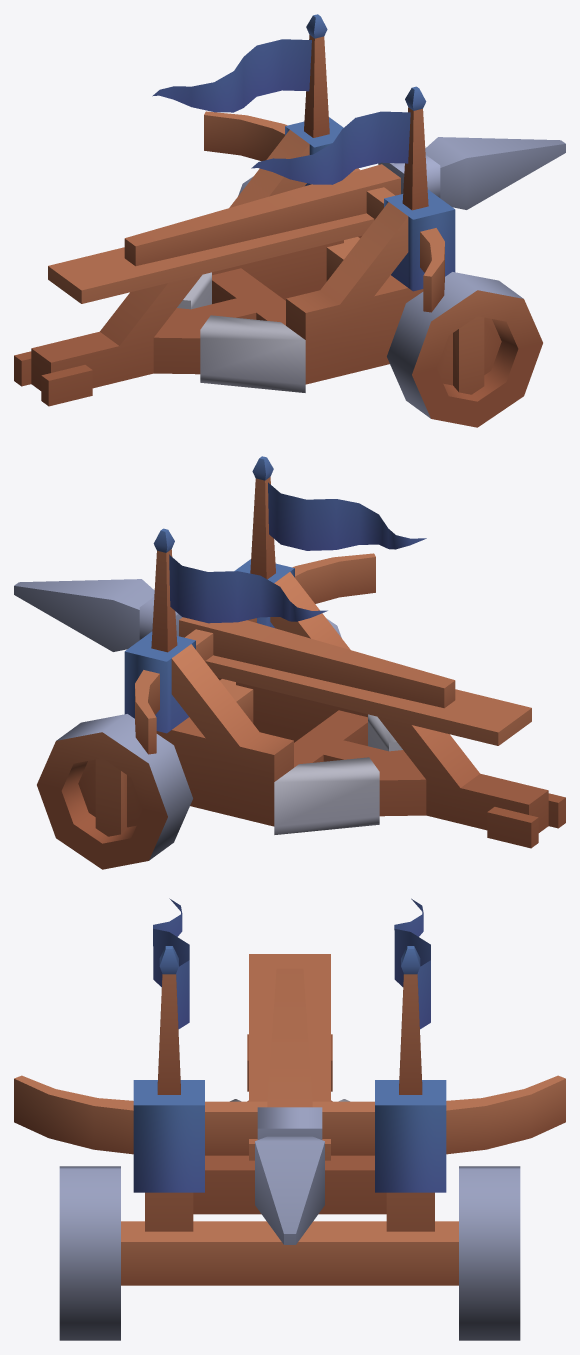
File: siege-ballista.glb
3 views of the same model, one above another, from view 1: azimuth 30°, elevation 25°; view 2: azimuth 150°, elevation 25°; view 3: azimuth 270°, elevation 25° (orthographic). The views are drawn at different scales.
Parts seen in each view (by area): view 1: siege-ballista, wheel, arrow; view 2: siege-ballista, wheel, arrow; view 3: siege-ballista, wheel (×2), arrow.
Boxes of the visible parts, x1,y1,x2,y2 form: siege-ballista: [14, 14, 455, 406]; wheel: [387, 272, 542, 427]; arrow: [124, 137, 565, 266]; siege-ballista: [124, 456, 565, 848]; wheel: [37, 714, 192, 869]; arrow: [14, 579, 455, 708]; siege-ballista: [14, 898, 565, 1285]; wheel (×2): [59, 1166, 520, 1340]; arrow: [255, 968, 324, 1244].
Bounding box in the file's own units: 1.63 × 0.9103 × 1.2.
